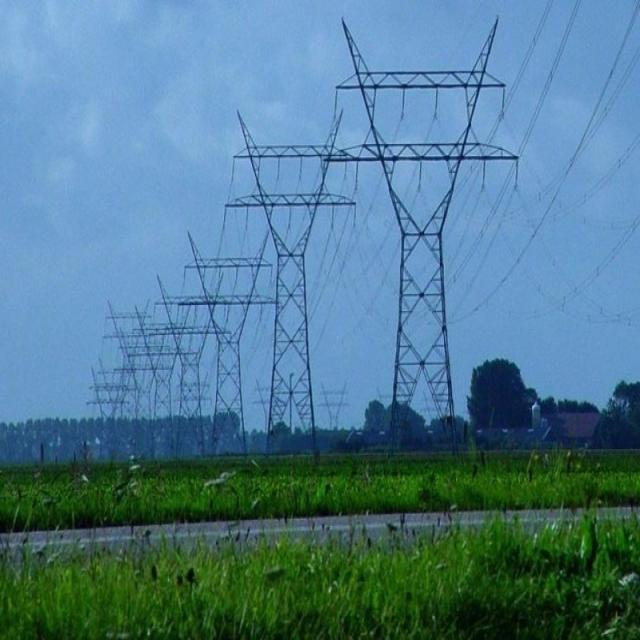non-critical vegetation: (335, 28, 516, 458), (222, 100, 364, 470), (188, 235, 273, 462), (158, 276, 216, 460)
